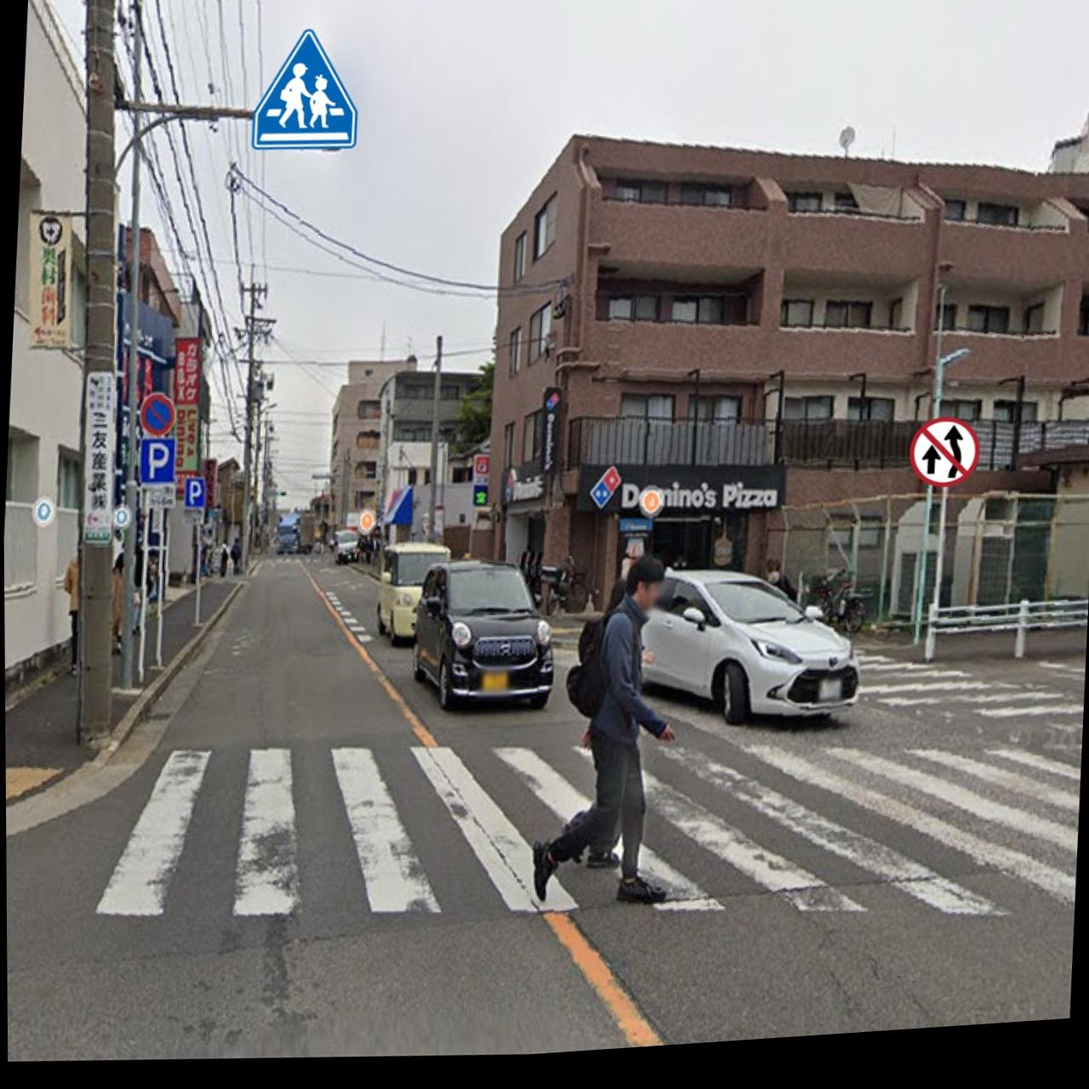cone: (127, 41, 380, 190)
